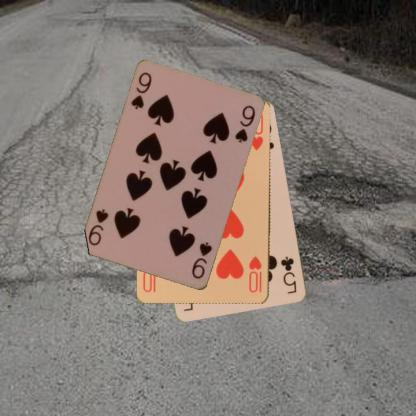10h: (247, 254, 264, 294)
5c: (278, 254, 298, 296)
9s: (189, 239, 214, 281), (129, 70, 153, 111)
